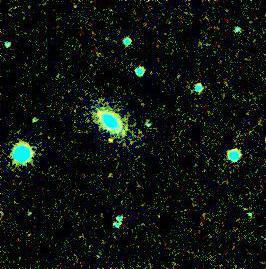star: (94, 127, 124, 157)
